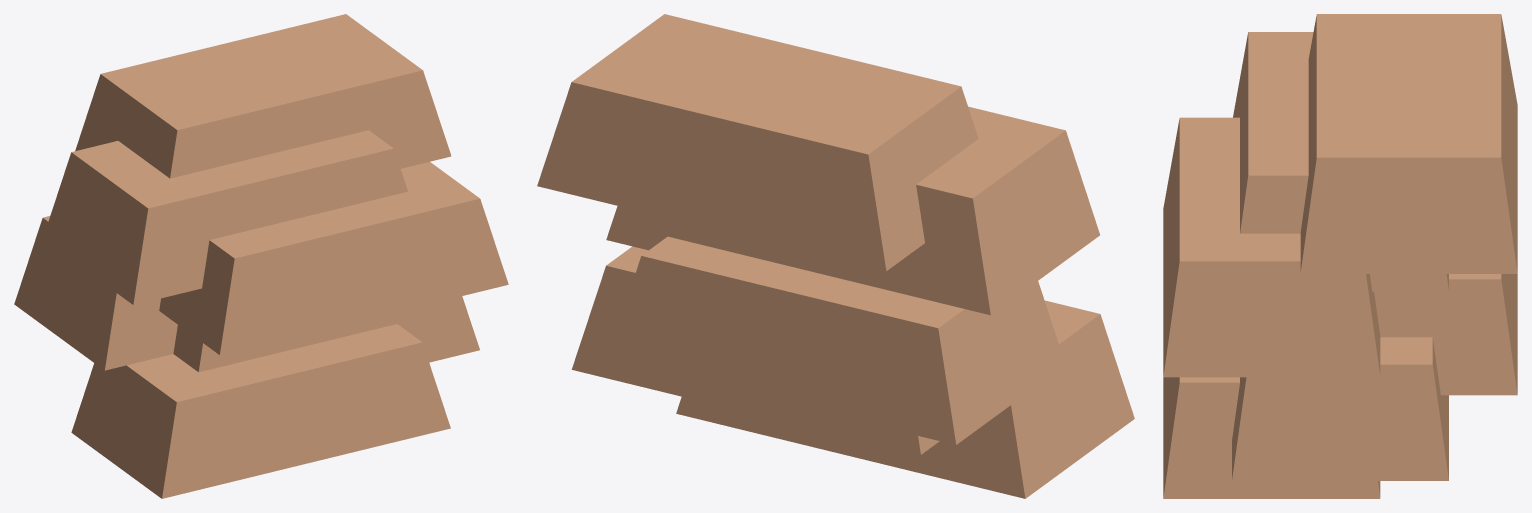
The model's file is item_079_clay_mould_l.glb.
3 views of the same model, side by side, from view 1: azimuth 30°, elevation 25°; view 2: azimuth 150°, elevation 25°; view 3: azimuth 270°, elevation 25° (orthographic). The views are drawn at different scales.
Parts seen in each view (by area): view 1: item_079_clay_mould_l; view 2: item_079_clay_mould_l; view 3: item_079_clay_mould_l.
Part boxes in pixels (x1=…): item_079_clay_mould_l: x1=14, y1=14, x2=508, y2=498; item_079_clay_mould_l: x1=537, y1=14, x2=1134, y2=498; item_079_clay_mould_l: x1=1163, y1=14, x2=1517, y2=498.
Size of the model in its own units: 0.42 by 0.35 by 0.31.
